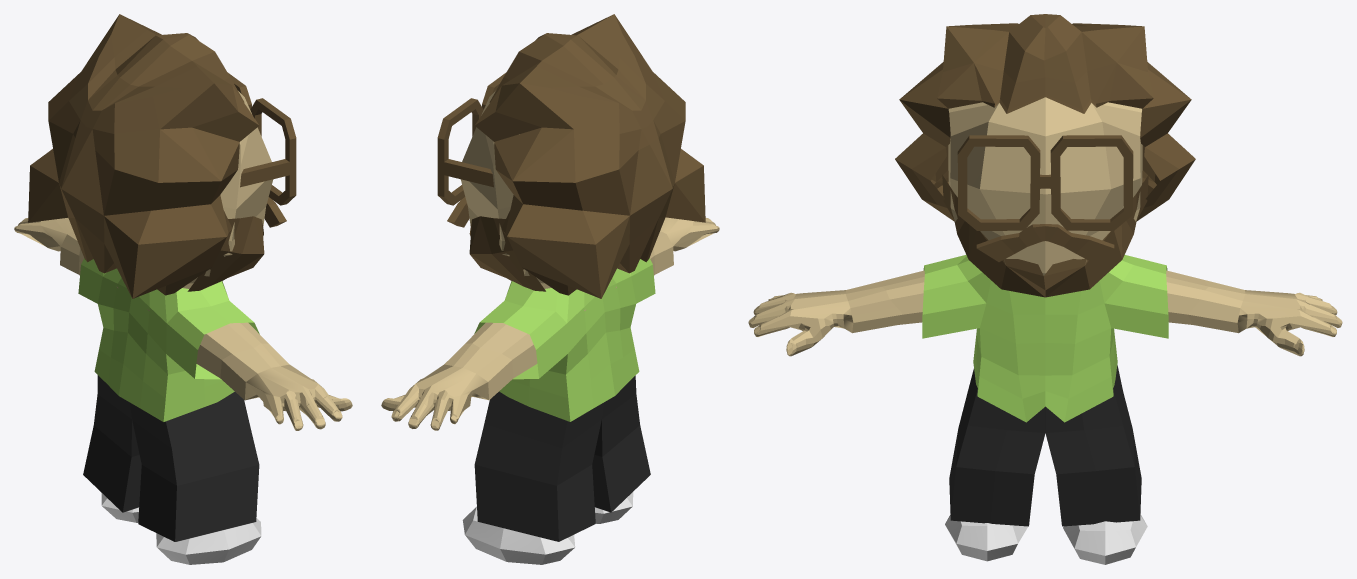
Rendered from 3dBoy.glb.
3 views of the same model, side by side, from view 1: azimuth 30°, elevation 25°; view 2: azimuth 150°, elevation 25°; view 3: azimuth 270°, elevation 25° (orthographic). The views are drawn at different scales.
Visible parts, largest first — view 1: Plane.002; view 2: Plane.002; view 3: Plane.002.
Boxes of the visible parts, box(x1,y1,x2,y2) form: Plane.002: box(14, 14, 352, 564); Plane.002: box(381, 14, 719, 564); Plane.002: box(748, 14, 1342, 564).
Size of the model in its own units: 0.4039 by 0.984 by 1.01.
